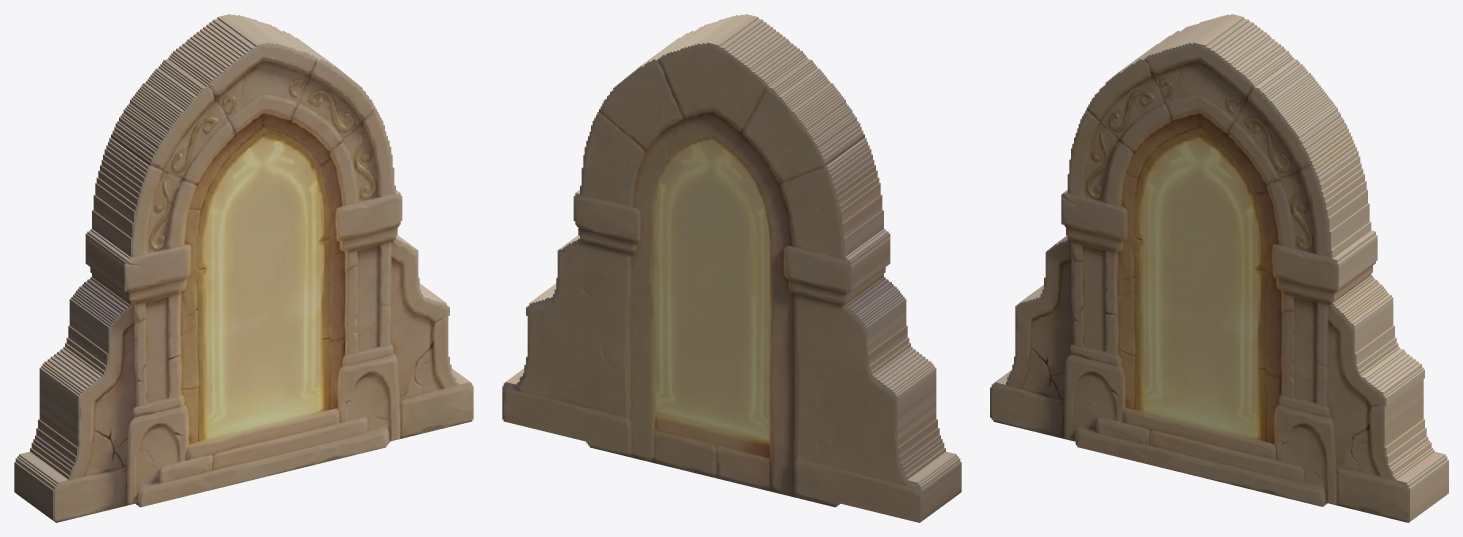
The model's file is arena-gate.glb.
The picture shows the model from 3 angles, left to right: view 1: azimuth 30°, elevation 25°; view 2: azimuth 150°, elevation 25°; view 3: azimuth 330°, elevation 25°; orthographic projection.
Parts seen in each view (by area): view 1: piece; view 2: piece; view 3: piece.
Boxes of the visible parts, <box> form: piece: <box>14,14,473,522</box>; piece: <box>502,14,961,522</box>; piece: <box>990,14,1448,522</box>.
Bounding box in the file's own units: 5.27 × 5.19 × 0.8435.
1 material, 1 textured.
